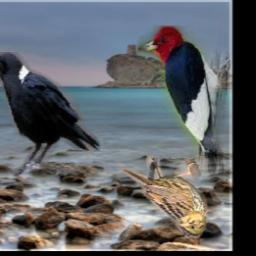Crow: (0, 53, 100, 178)
Sparrow: (120, 157, 208, 238)
Woodpecker: (138, 26, 231, 177)
